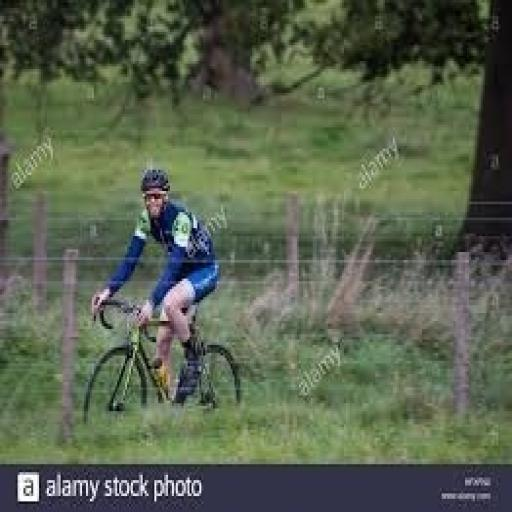cycling: (90, 164, 223, 408)
